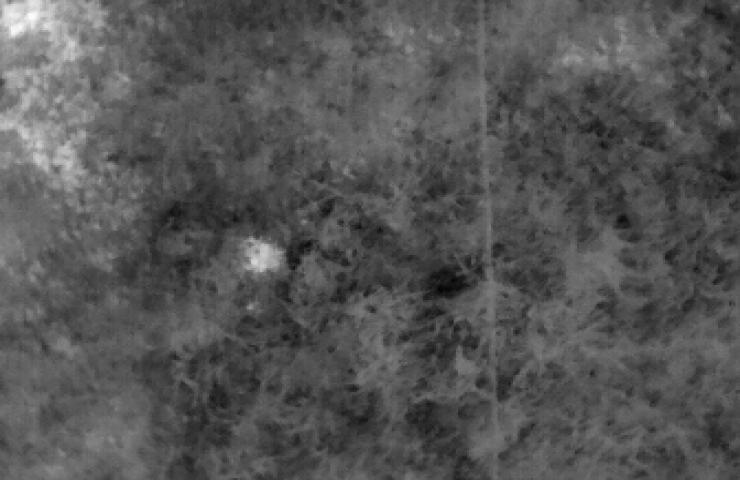landmines: (240, 235, 288, 274)
